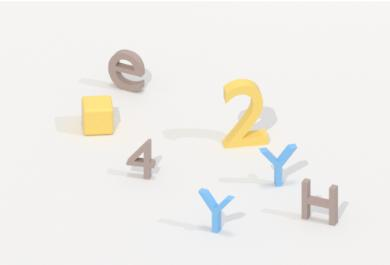0-KhoiVuong: (77, 90, 119, 141)
2: (218, 75, 272, 150)
4: (122, 134, 160, 182)
H: (297, 174, 343, 231)
Y: (194, 185, 238, 237), (257, 141, 300, 190)
e: (105, 45, 151, 96)
